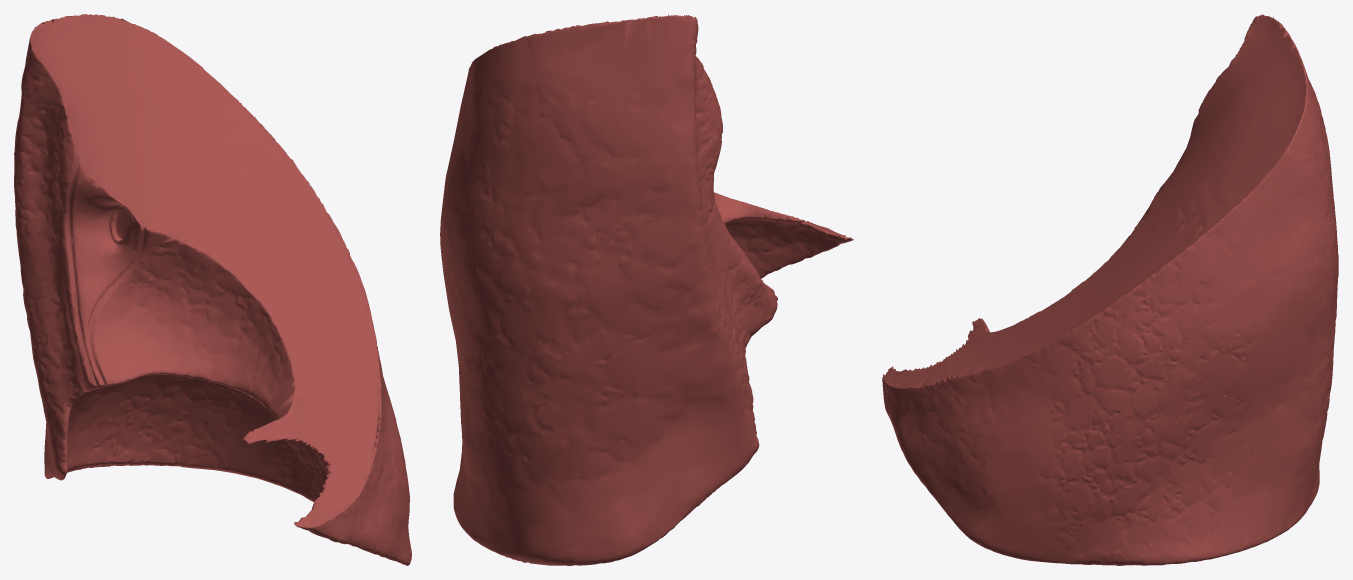
The model's file is FMA7371.glb.
3 views of the same model, side by side, from view 1: azimuth 30°, elevation 25°; view 2: azimuth 150°, elevation 25°; view 3: azimuth 270°, elevation 25° (orthographic). The views are drawn at different scales.
Visible parts, largest first — view 1: FMA7371; view 2: FMA7371; view 3: FMA7371.
Part boxes in pixels (x1,y1,x2,y2): FMA7371: (14, 14, 411, 565); FMA7371: (440, 14, 853, 565); FMA7371: (882, 14, 1338, 565).
Size of the model in its own units: 0.1093 by 0.1937 by 0.1782.
